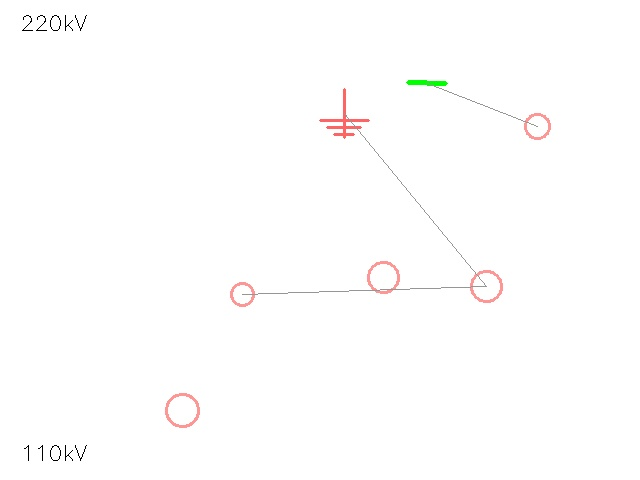busbar: (404, 60, 450, 106)
disconnect_switch: (455, 255, 517, 317)
feeder_terminal: (220, 272, 264, 316)
fuse: (352, 246, 414, 308)
ground: (320, 89, 368, 137)
load_break_switch: (150, 378, 214, 442)
voltage_transformer: (512, 101, 562, 151)
